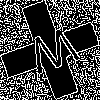W: (25, 25, 85, 85)
